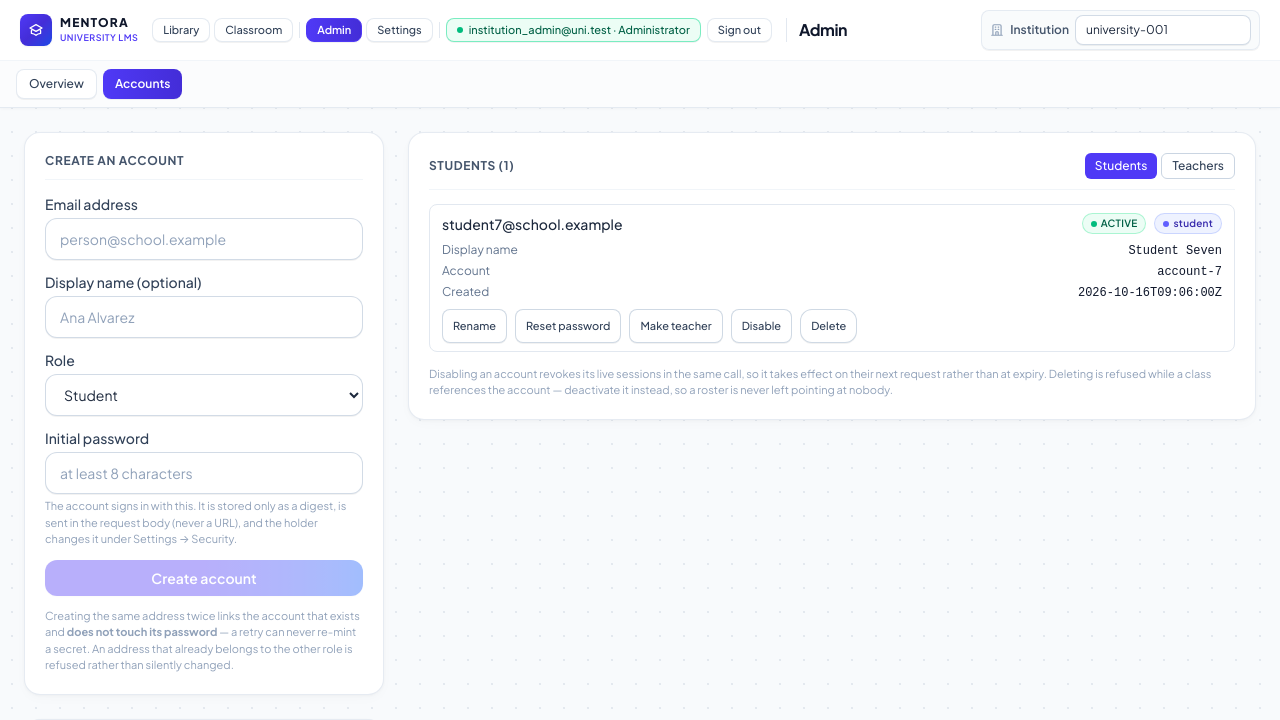
AdminPage — the directory, by capability › explains a refused removal with the remedy the guard points at
The width and height of the screenshot is (1280, 720).
Click the button "Delete" at (829, 326), box [800,309,857,343]
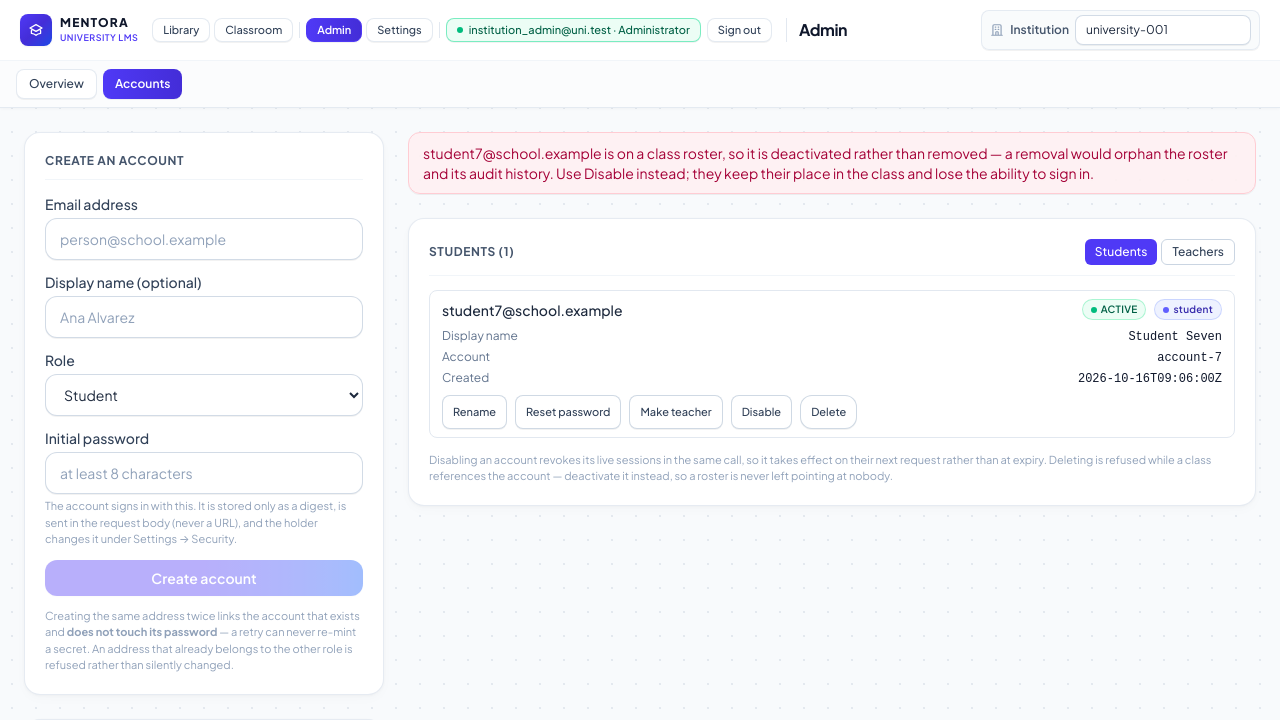
Check: the message shows "Disable instead", box [423,144,1228,182]
